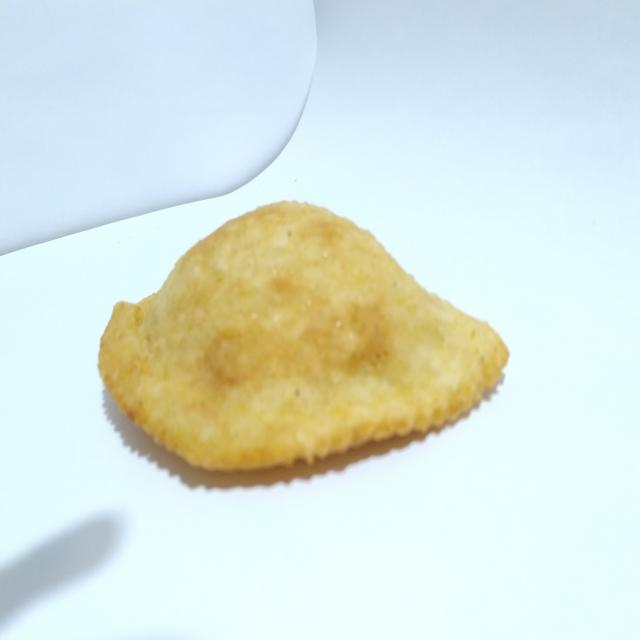Food: (86, 196, 512, 508)
